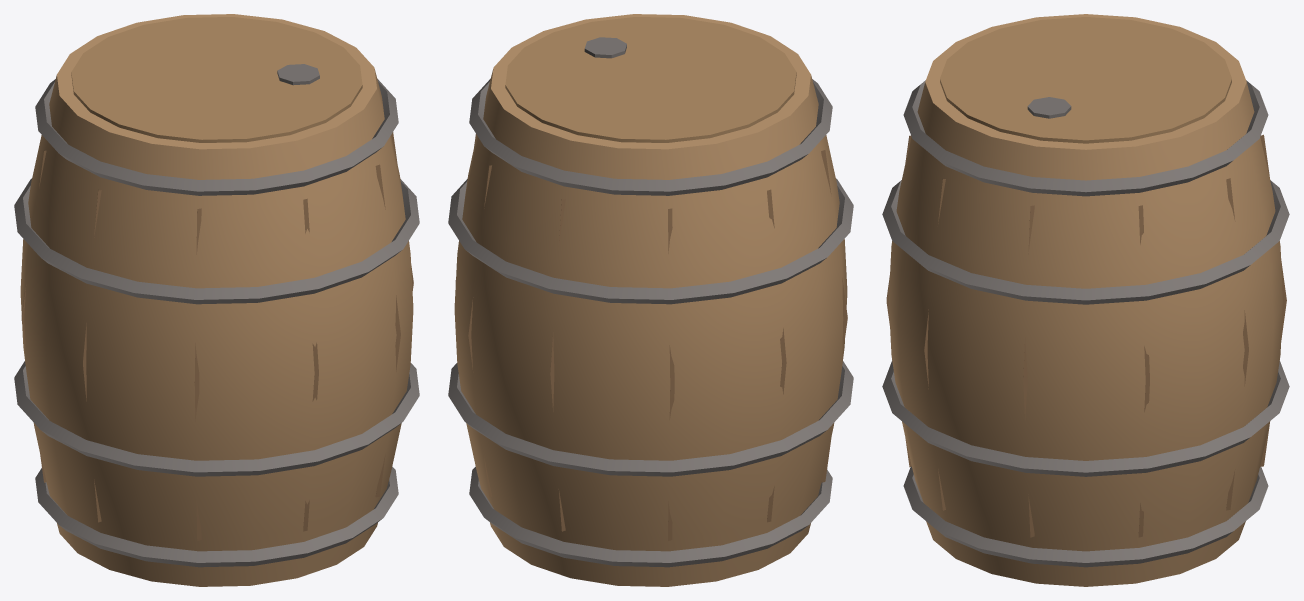
The model's file is barrel.glb.
3 renders of one model, left to right at view 1: azimuth 30°, elevation 25°; view 2: azimuth 150°, elevation 25°; view 3: azimuth 270°, elevation 25°, orthographic.
Visible parts, largest first — view 1: barrel; view 2: barrel; view 3: barrel.
Part boxes in pixels (x1,y1,x2,y2): barrel: (14, 14, 419, 586); barrel: (448, 14, 853, 586); barrel: (882, 14, 1289, 586).
Bounding box in the file's own units: 0.5575 × 0.67 × 0.5575.
